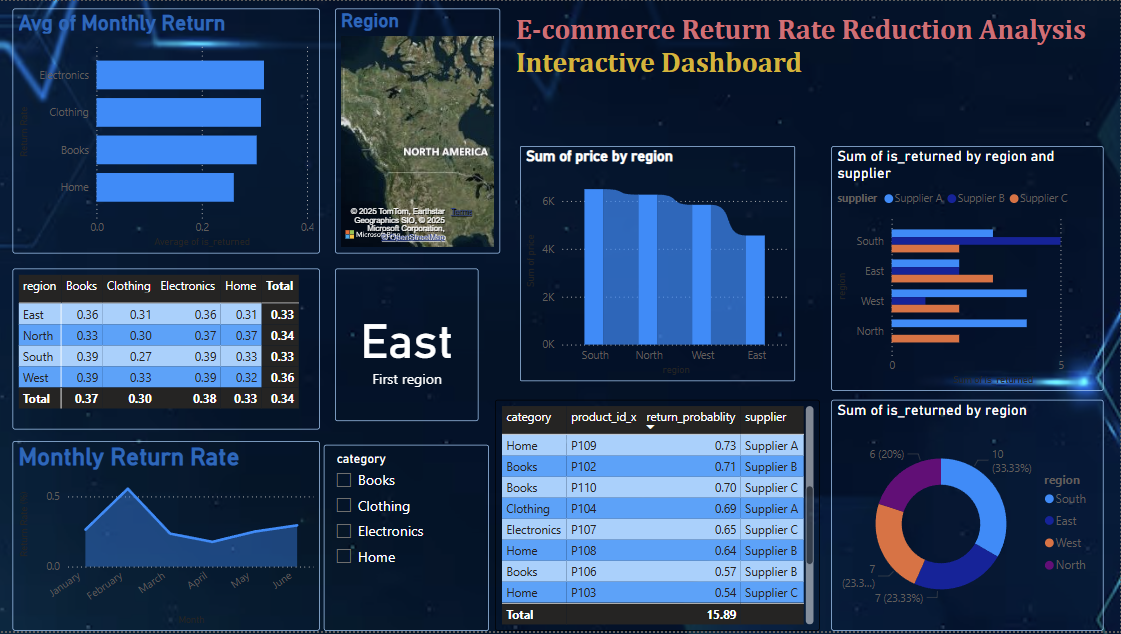

What the dashboard file says about the page in this screenshot:
{"tool":"powerbi","page":{"name":"Dashboard","canvas":[1280,720],"ordinal":0},"visuals":[{"type":"clusteredBarChart","title":"Avg of Monthly Return","fields":{"Category":["merged_orders_with_risk.category"],"Y":["Avg(merged_orders_with_risk.is_returned)"]},"box":[14.3,8.6,351.4,280],"z":0},{"type":"pivotTable","fields":{"Rows":["merged_orders_with_risk.region"],"Columns":["merged_orders_with_risk.category"],"Values":["Avg(merged_orders_with_risk.return_probability)"]},"box":[14.3,305.7,351.4,184.3],"z":1000},{"type":"lineChart","title":"Monthly Return Rate ","fields":{"Category":["merged_orders_with_risk.order_date.Variation.Date Hierarchy.Month"],"Y":["Avg(merged_orders_with_risk.is_returned)"]},"box":[14.3,502.9,351.4,217.1],"z":2000},{"type":"tableEx","fields":{"Values":["merged_orders_with_risk.category","merged_orders_with_risk.product_id_x","Sum(merged_orders_with_risk.return_probability)","merged_orders_with_risk.supplier"]},"box":[565.7,455.7,371.4,264.3],"z":3000},{"type":"slicer","fields":{"Values":["merged_orders_with_risk.category"]},"box":[370,507.1,188.6,212.9],"z":4000},{"type":"donutChart","fields":{"Y":["Sum(merged_orders_with_risk.is_returned)"],"Category":["merged_orders_with_risk.region"]},"box":[950,455.7,311.4,264.3],"z":5000},{"type":"clusteredBarChart","fields":{"Y":["Sum(merged_orders_with_risk.is_returned)"],"Category":["merged_orders_with_risk.region"],"Series":["merged_orders_with_risk.supplier"]},"box":[950,165.7,311.4,280],"z":6000},{"type":"map","title":"Region","fields":{"Size":["Sum(merged_orders_with_risk.price)"],"Series":["merged_orders_with_risk.region"]},"box":[383,9,189,280],"z":7000},{"type":"textbox","box":[584.3,8.6,677.1,101.4],"z":9000},{"type":"card","fields":{"Values":["Min(merged_orders_with_risk.region)"]},"box":[382.9,305.7,164.3,174.3],"z":9001},{"type":"ribbonChart","fields":{"Category":["merged_orders_with_risk.region"],"Y":["Sum(merged_orders_with_risk.price)"]},"box":[594.3,165.7,314.3,268.6],"z":9002}]}

Visuals, with their boxes in screenshot pixels (x1, y1, x2, y2), scaled from the page's 1280x720 canvas onto the 1121x634 screenshot:
"Avg of Monthly Return" clusteredBarChart: 13:8:320:254
pivotTable - merged_orders_with_risk.region x merged_orders_with_risk.category: 13:269:320:431
"Monthly Return Rate " lineChart: 13:443:320:633
tableEx - merged_orders_with_risk.category x merged_orders_with_risk.product_id_x: 495:401:821:633
slicer - merged_orders_with_risk.category: 324:447:489:633
donutChart - Sum(merged_orders_with_risk.is_returned) x merged_orders_with_risk.region: 832:401:1105:633
clusteredBarChart - Sum(merged_orders_with_risk.is_returned) x merged_orders_with_risk.region: 832:146:1105:392
"Region" map: 335:8:501:254
textbox: 512:8:1105:97
card - Min(merged_orders_with_risk.region): 335:269:479:423
ribbonChart - merged_orders_with_risk.region x Sum(merged_orders_with_risk.price): 520:146:796:382
